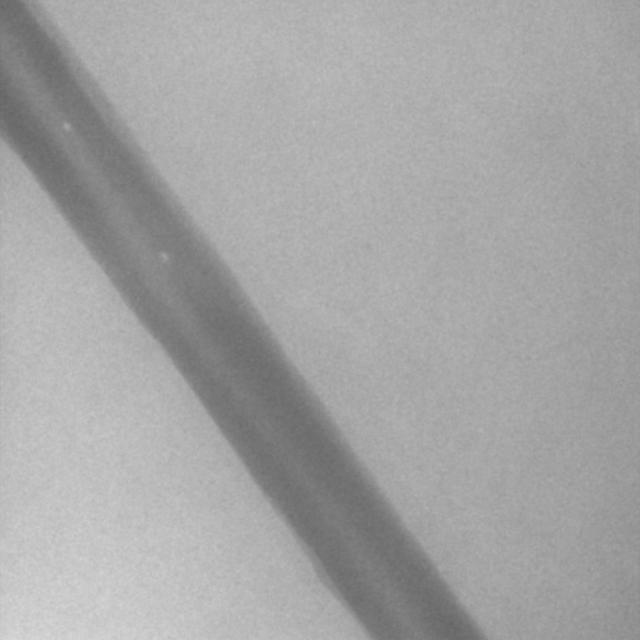air hole: (60, 118, 71, 134), (160, 251, 168, 263)
